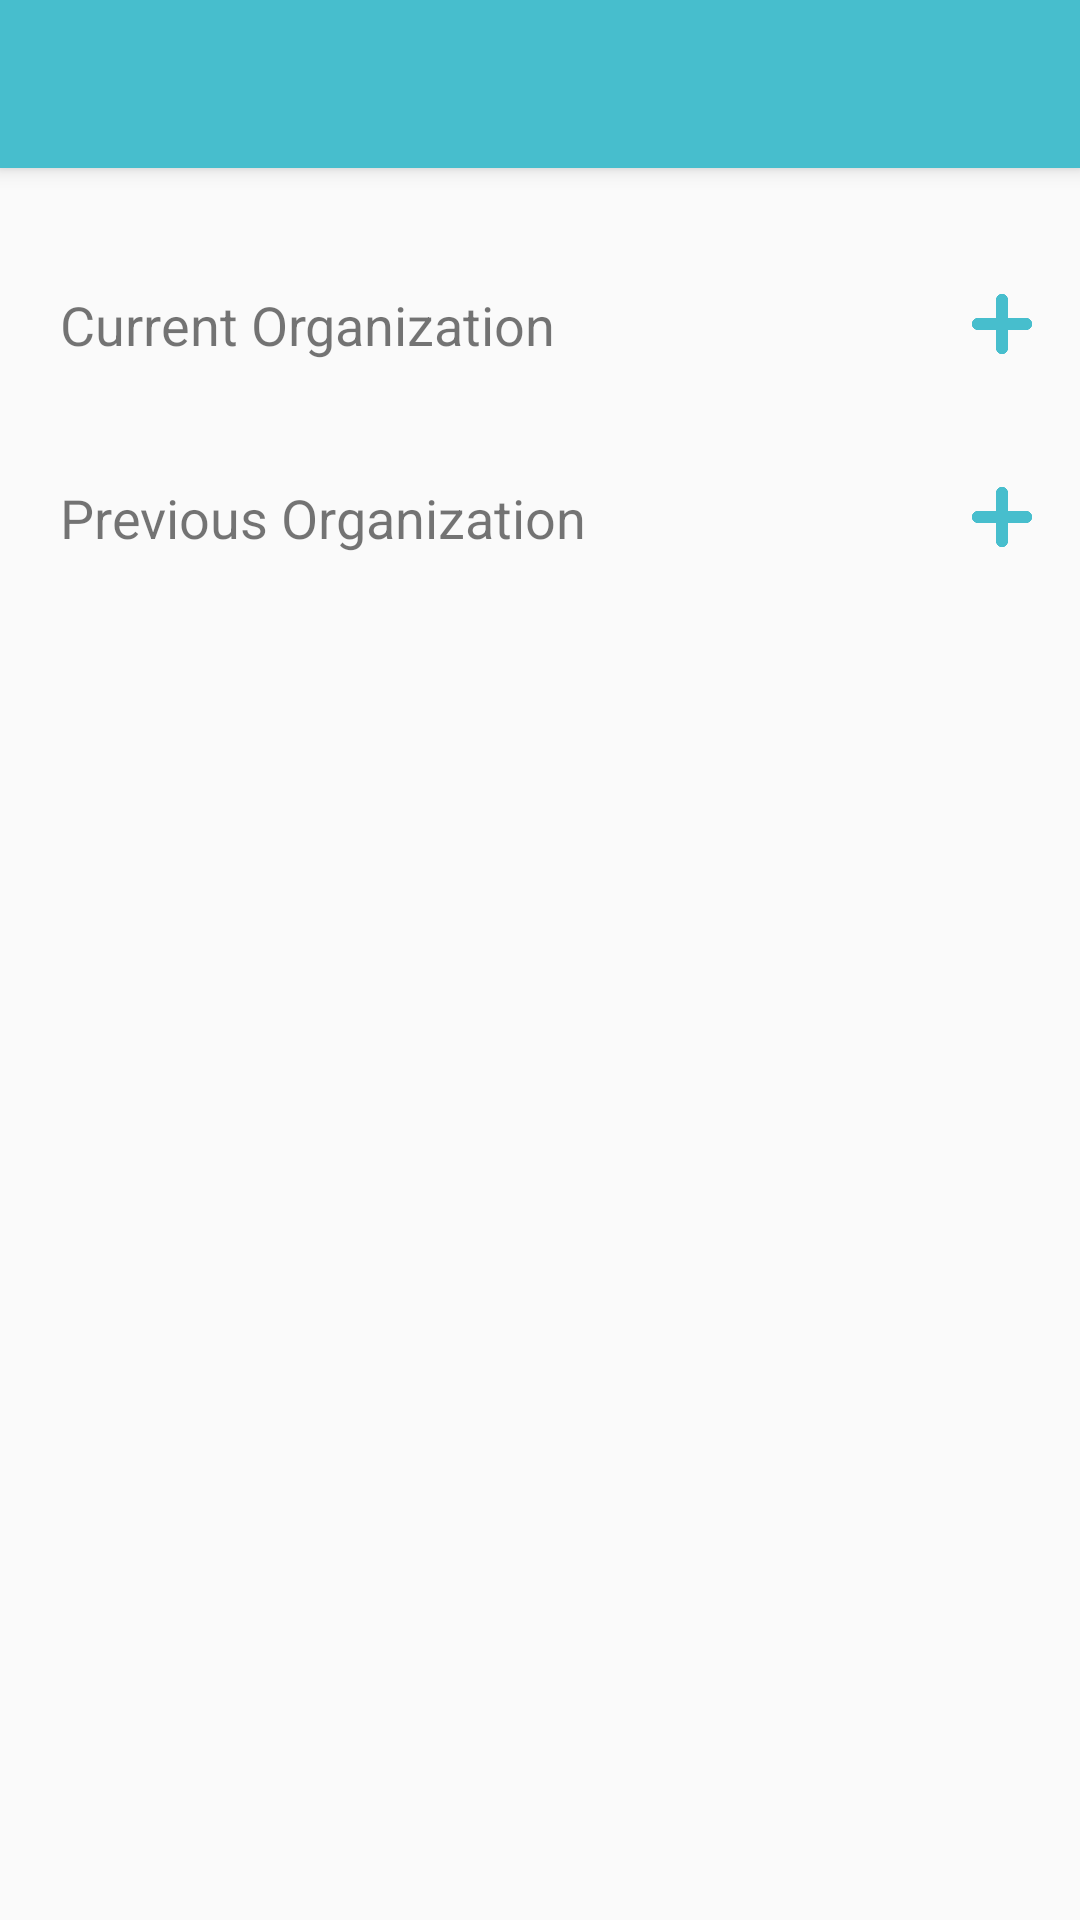

Icons on this 1080px x 1920px Android screen, each with the point to tap as point (x, y):
plusicon: point (1002, 324), point (1002, 517)
